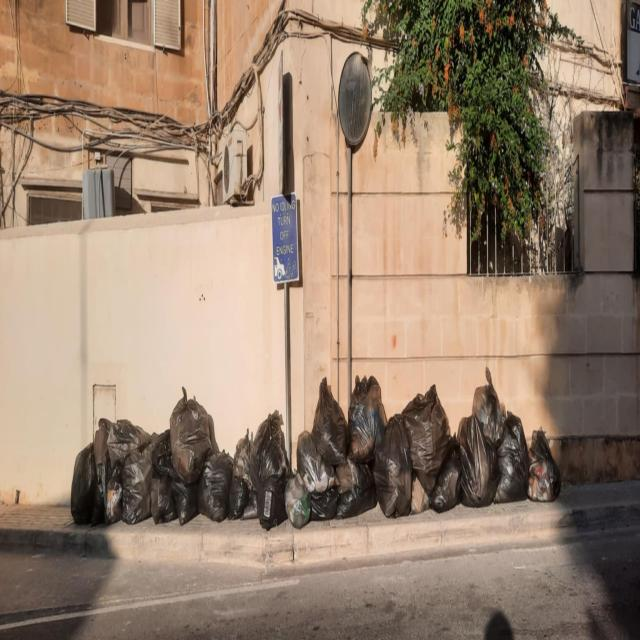Mixed Waste -Black Bag-: (402, 382, 451, 515), (170, 383, 215, 482), (378, 411, 415, 519), (348, 374, 390, 466), (458, 413, 497, 509), (495, 411, 529, 509), (312, 379, 350, 465), (252, 409, 292, 484), (429, 433, 462, 517), (297, 430, 340, 493), (336, 458, 379, 521), (472, 367, 507, 443), (529, 428, 563, 505), (201, 449, 234, 526), (71, 440, 99, 530), (120, 464, 153, 523), (110, 416, 150, 462), (259, 433, 292, 487), (286, 472, 312, 531), (260, 476, 287, 530), (173, 476, 199, 525), (152, 476, 176, 527), (107, 460, 123, 528), (233, 428, 251, 488), (146, 430, 171, 473), (227, 478, 249, 523), (94, 418, 113, 470), (91, 464, 106, 529), (311, 488, 338, 523), (245, 489, 259, 522)
